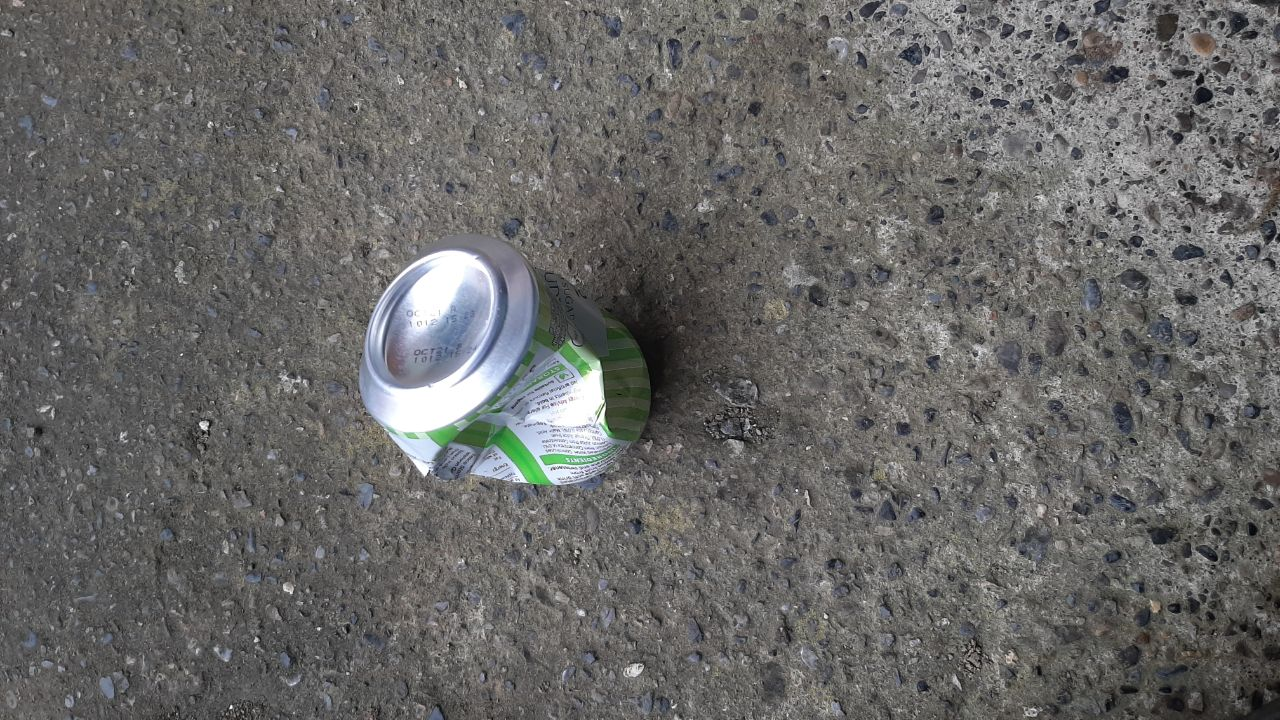Can: (358, 233, 653, 488)
